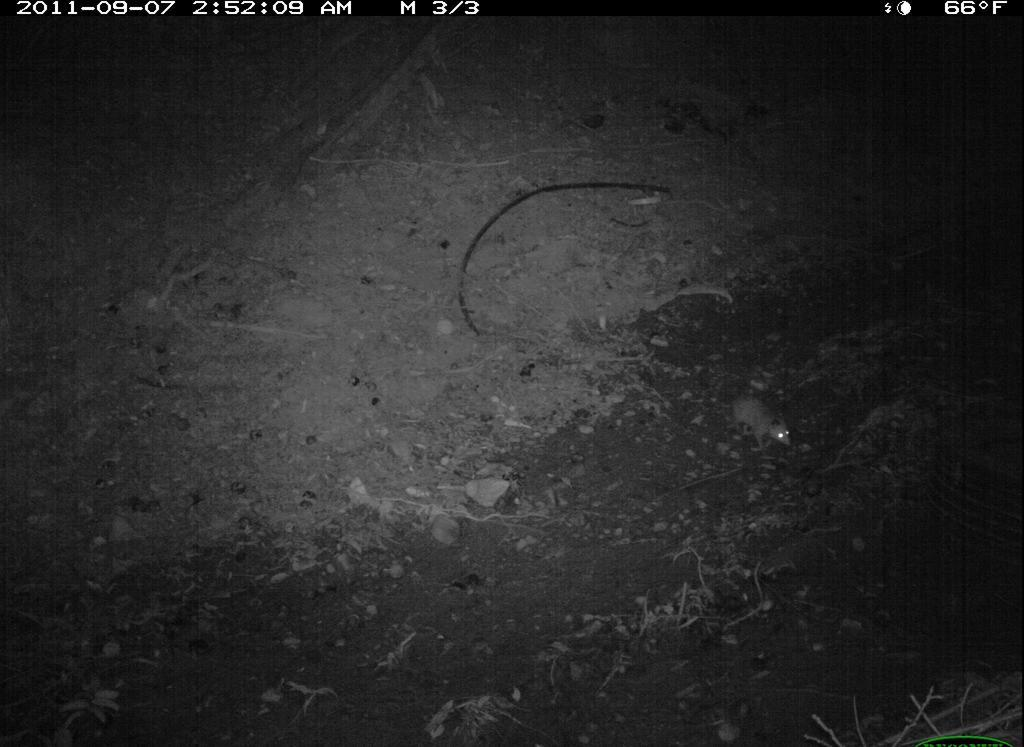opossum: (721, 386, 804, 463)
